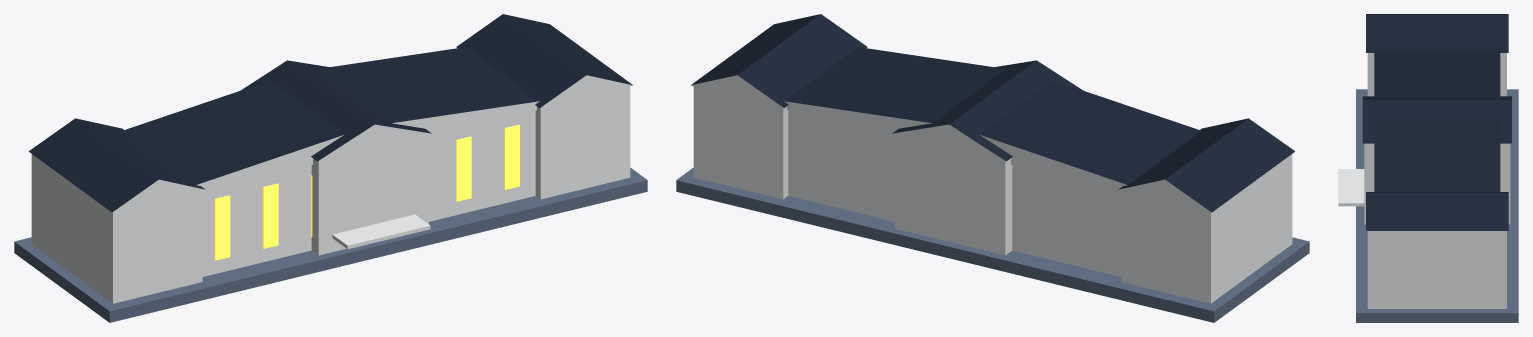
Rendered from lm_12_dalat_palace_hotel_base.glb.
The picture shows the model from 3 angles, left to right: view 1: azimuth 30°, elevation 25°; view 2: azimuth 150°, elevation 25°; view 3: azimuth 270°, elevation 25°; orthographic projection. The views are drawn at different scales.
Visible parts, largest first — view 1: palace_west_pavilion, palace_main_corps, palace_plinth, mansard_main_slope_l, mansard_main_slope_r, palace_center_pavilion, palace_east_pavilion, mansard_west_slope_l, mansard_east_slope_l, mansard_main_gable_f, mansard_center_slope_l, mansard_east_slope_r (+10 smaller); view 2: palace_main_corps, palace_west_pavilion, palace_plinth, mansard_main_slope_l, palace_center_pavilion, mansard_main_slope_r, palace_east_pavilion, mansard_west_slope_l, mansard_east_slope_l, mansard_main_gable_b, mansard_center_slope_l, mansard_east_slope_r (+5 smaller); view 3: palace_east_pavilion, mansard_main_slope_r, mansard_main_slope_l, palace_plinth, mansard_east_slope_r, mansard_west_slope_r, mansard_center_slope_r, palace_center_pavilion, grand_portico, palace_west_pavilion, mansard_center_slope_l, mansard_west_slope_l (+1 smaller).
Part boxes in pixels (x1,y1,x2,y2): palace_west_pavilion: (31,154,202,303); palace_main_corps: (202,110,535,276); palace_plinth: (14,167,647,322); mansard_main_slope_l: (122,80,344,184); mansard_main_slope_r: (318,47,539,123); palace_center_pavilion: (311,134,428,255); palace_east_pavilion: (535,86,630,199); mansard_west_slope_l: (29,118,158,212); mansard_east_slope_l: (456,14,586,107); mansard_main_gable_f: (196,101,539,191); mansard_center_slope_l: (241,60,374,161); mansard_east_slope_r: (503,14,632,85); palace_main_corps: (788,110,1121,276); palace_west_pavilion: (1121,154,1292,303); palace_plinth: (676,167,1309,322); mansard_main_slope_l: (979,80,1201,184); palace_center_pavilion: (895,134,1012,255); mansard_main_slope_r: (784,47,1005,123); palace_east_pavilion: (693,86,788,199); mansard_west_slope_l: (1165,118,1294,212); mansard_east_slope_l: (737,14,867,107); mansard_main_gable_b: (784,101,1127,191); mansard_center_slope_l: (949,60,1082,161); mansard_east_slope_r: (691,14,820,85); palace_east_pavilion: (1367,231,1506,308); mansard_main_slope_r: (1374,118,1500,191); mansard_main_slope_l: (1374,49,1500,98); palace_plinth: (1356,89,1518,322); mansard_east_slope_r: (1366,193,1508,230); mansard_west_slope_r: (1366,15,1508,52); mansard_center_slope_r: (1362,100,1511,143); palace_center_pavilion: (1364,143,1510,224); grand_portico: (1338,169,1364,206); palace_west_pavilion: (1367,53,1506,96); mansard_center_slope_l: (1362,96,1511,100); mansard_west_slope_l: (1366,14,1508,14).
Bounding box in the file's own units: 78 × 18 × 26.6.
